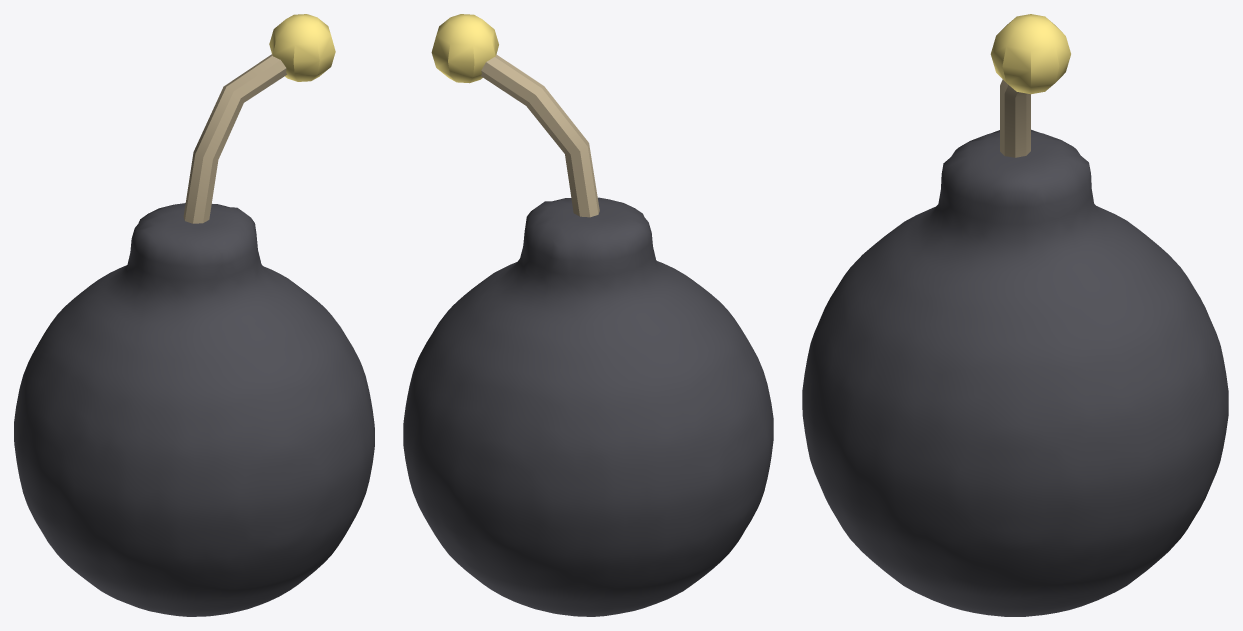
Rendered from SM_Bomb.glb.
3 views of the same model, side by side, from view 1: azimuth 30°, elevation 25°; view 2: azimuth 150°, elevation 25°; view 3: azimuth 270°, elevation 25° (orthographic). The views are drawn at different scales.
Visible parts, largest first — view 1: SM_Bomb; view 2: SM_Bomb; view 3: SM_Bomb.
Boxes of the visible parts, x1,y1,x2,y2 form: SM_Bomb: (14, 14, 374, 616); SM_Bomb: (403, 14, 773, 616); SM_Bomb: (802, 14, 1228, 616).
Bounding box in the file's own units: 0.2741 × 0.4588 × 0.275.
